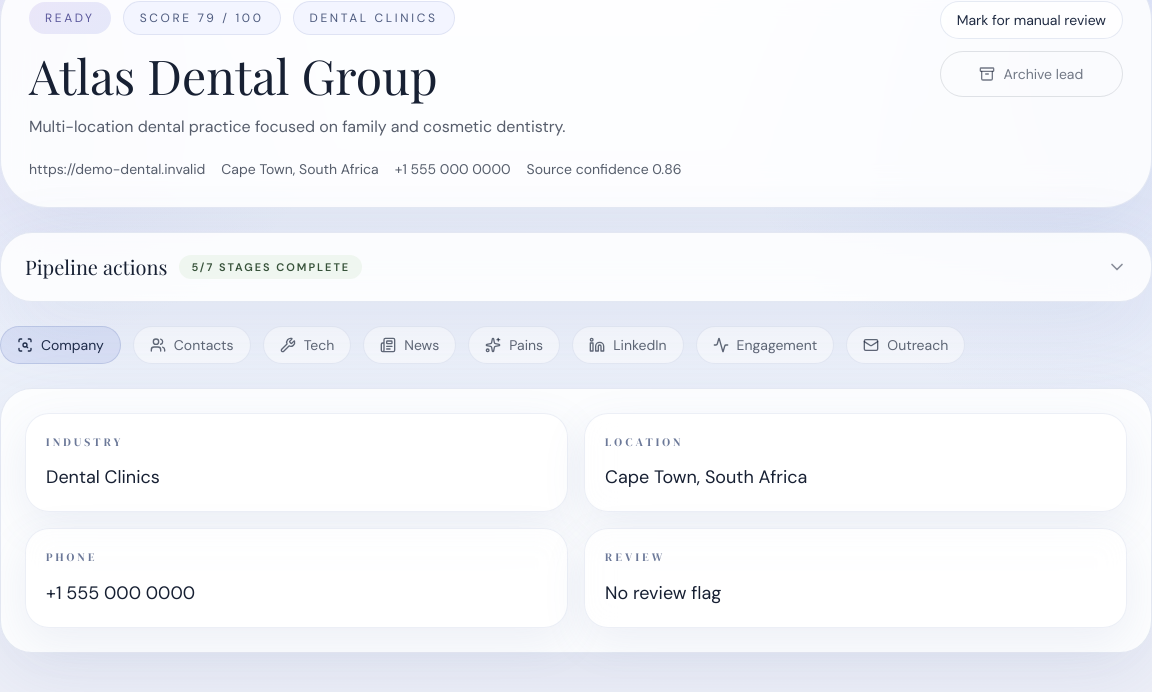
Test: LeadDetailView › shows engagement events and follow-up drafts in the engagement tab
This screenshot has width=1152, height=692.
Click the button "Engagement". click: (765, 345)
box: [696,326,834,364]
(page scrolled)
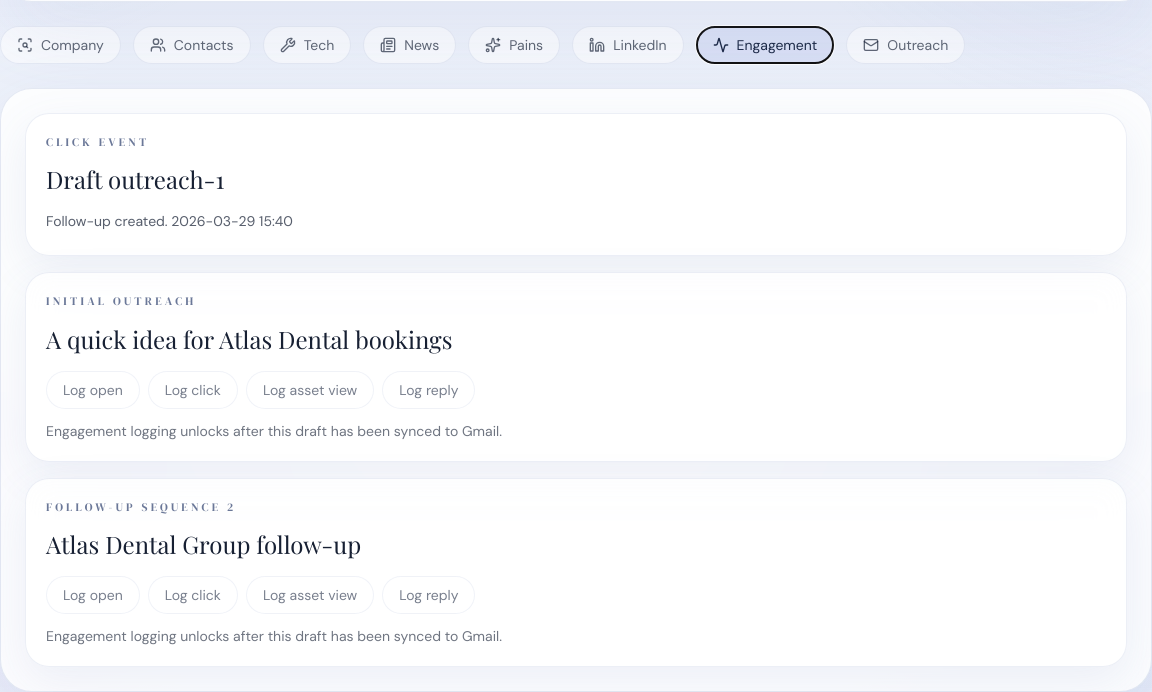
Result: the text "CLICK event" is shown at [46,134,150,150]
Result: the text "Follow-up created. 2026-03-29 15:40" is shown at [46,212,293,230]
Result: the heading "Atlas Dental Group follow-up" is shown at [46,528,361,560]
